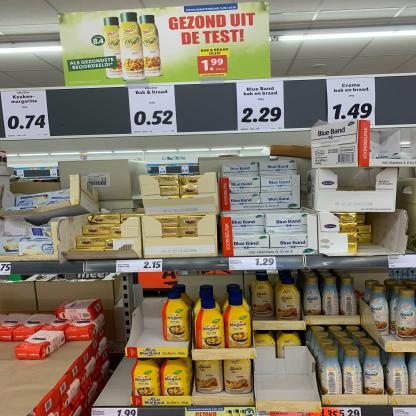prtg: (1, 91, 52, 139), (129, 86, 178, 135), (327, 78, 376, 127), (238, 82, 286, 131), (230, 257, 278, 271), (117, 260, 163, 274), (388, 255, 415, 269), (1, 263, 12, 276)
